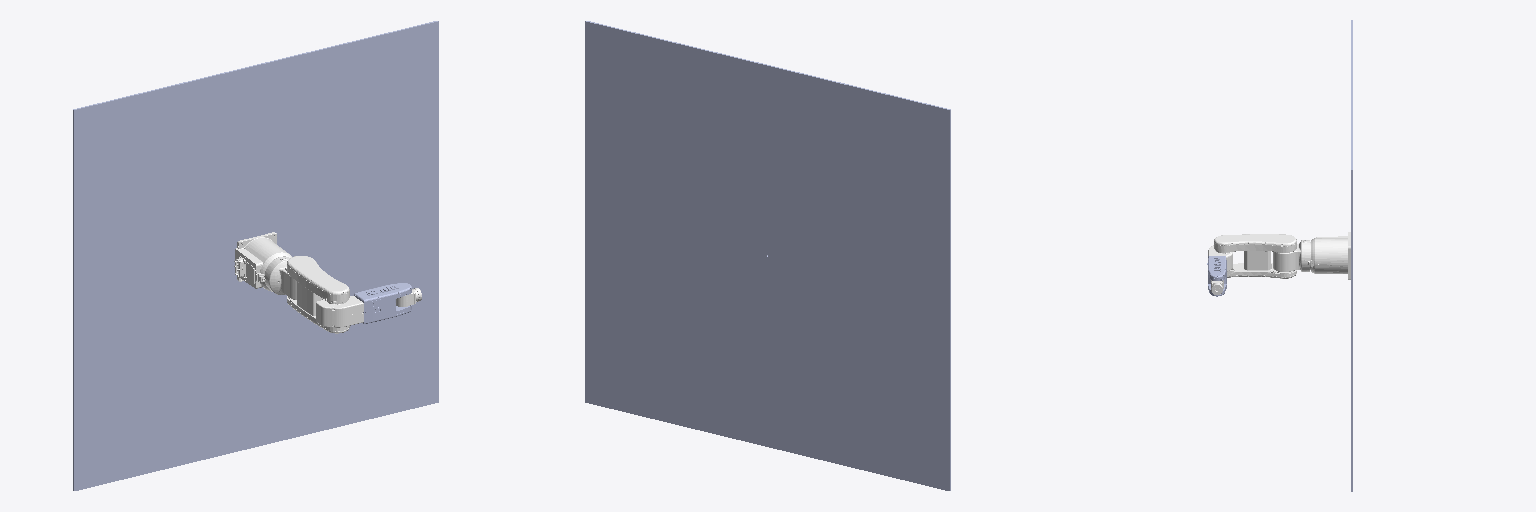
URDF robot description (ra605):
<robot
  name="ra605">
  <link
    name="floor1">
    <inertial>
      <origin
        xyz="-0.027867 3.7215E-06 -0.1165"
        rpy="0 0 0" />
      <mass
        value="39.999" />
      <inertia
        ixx="13.334"
        ixy="1.7928E-15"
        ixz="-6.8678E-18"
        iyy="13.334"
        iyz="-4.6579E-14"
        izz="26.667" />
    </inertial>
    <visual>
      <origin
        xyz="0 0 0"
        rpy="0 0 0" />
      <geometry>
        <mesh
          filename="package://ra605/meshes/floor1.STL" />
      </geometry>
      <material
        name="">
        <color
          rgba="0.79216 0.81961 0.93333 1" />
      </material>
    </visual>
    <collision>
      <origin
        xyz="0 0 0"
        rpy="0 0 0" />
      <geometry>
        <mesh
          filename="package://ra605/meshes/floor1.STL" />
      </geometry>
    </collision>
  </link>
  <link
    name="Link2">
    <inertial>
      <origin
        xyz="0.037351 0.0019611 1.382E-05"
        rpy="0 0 0" />
      <mass
        value="21.943" />
      <inertia
        ixx="0.14975"
        ixy="0.0016032"
        ixz="-3.0665E-05"
        iyy="0.13013"
        iyz="1.5416E-05"
        izz="0.16732" />
    </inertial>
    <visual>
      <origin
        xyz="0 0 0"
        rpy="0 0 0" />
      <geometry>
        <mesh
          filename="package://ra605/meshes/Link2.STL" />
      </geometry>
      <material
        name="">
        <color
          rgba="1 1 1 1" />
      </material>
    </visual>
    <collision>
      <origin
        xyz="0 0 0"
        rpy="0 0 0" />
      <geometry>
        <mesh
          filename="package://ra605/meshes/Link2.STL" />
      </geometry>
    </collision>
  </link>
  <joint
    name="joint1"
    type="fixed">
    <origin
      xyz="0 0 0"
      rpy="0 -1.2246E-16 3.1416" />
    <parent
      link="floor1" />
    <child
      link="Link2" />
    <axis
      xyz="0 0 0" />
  </joint>
  <link
    name="Link3">
    <inertial>
      <origin
        xyz="0.012541 -0.0034973 0.082141"
        rpy="0 0 0" />
      <mass
        value="7.6212" />
      <inertia
        ixx="0.035843"
        ixy="0.00046535"
        ixz="-0.0053569"
        iyy="0.038538"
        iyz="0.0016388"
        izz="0.02369" />
    </inertial>
    <visual>
      <origin
        xyz="0 0 0"
        rpy="0 0 0" />
      <geometry>
        <mesh
          filename="package://ra605/meshes/Link3.STL" />
      </geometry>
      <material
        name="">
        <color
          rgba="1 1 1 1" />
      </material>
    </visual>
    <collision>
      <origin
        xyz="0 0 0"
        rpy="0 0 0" />
      <geometry>
        <mesh
          filename="package://ra605/meshes/Link3.STL" />
      </geometry>
    </collision>
  </link>
  <joint
    name="joint2"
    type="continuous">
    <origin
      xyz="0.027867 0.1185 0"
      rpy="1.5708 -1.2246E-16 -3.1416" />
    <parent
      link="Link2" />
    <child
      link="Link3" />
    <axis
      xyz="0 0 1" />
  </joint>
  <link
    name="Link4">
    <inertial>
      <origin
        xyz="-0.0098344 0.017961 0.15004"
        rpy="0 0 0" />
      <mass
        value="20.11" />
      <inertia
        ixx="0.39179"
        ixy="-0.0011467"
        ixz="0.0015973"
        iyy="0.30339"
        iyz="0.0013522"
        izz="0.13207" />
    </inertial>
    <visual>
      <origin
        xyz="0 0 0"
        rpy="0 0 0" />
      <geometry>
        <mesh
          filename="package://ra605/meshes/Link4.STL" />
      </geometry>
      <material
        name="">
        <color
          rgba="1 1 1 1" />
      </material>
    </visual>
    <collision>
      <origin
        xyz="0 0 0"
        rpy="0 0 0" />
      <geometry>
        <mesh
          filename="package://ra605/meshes/Link4.STL" />
      </geometry>
    </collision>
  </link>
  <joint
    name="joint4"
    type="continuous">
    <origin
      xyz="0.03 0 0.145"
      rpy="0 0 0" />
    <parent
      link="Link3" />
    <child
      link="Link4" />
    <axis
      xyz="0 1 0" />
  </joint>
  <link
    name="Link5">
    <inertial>
      <origin
        xyz="0.00081491 -0.0023378 0.019022"
        rpy="0 0 0" />
      <mass
        value="6.7196" />
      <inertia
        ixx="0.015647"
        ixy="-1.3353E-05"
        ixz="-0.0031024"
        iyy="0.028001"
        iyz="-0.00028452"
        izz="0.024631" />
    </inertial>
    <visual>
      <origin
        xyz="0 0 0"
        rpy="0 0 0" />
      <geometry>
        <mesh
          filename="package://ra605/meshes/Link5.STL" />
      </geometry>
      <material
        name="">
        <color
          rgba="1 1 1 1" />
      </material>
    </visual>
    <collision>
      <origin
        xyz="0 0 0"
        rpy="0 0 0" />
      <geometry>
        <mesh
          filename="package://ra605/meshes/Link5.STL" />
      </geometry>
    </collision>
  </link>
  <joint
    name="joint5"
    type="continuous">
    <origin
      xyz="0 0 0.34"
      rpy="0 0 0" />
    <parent
      link="Link4" />
    <child
      link="Link5" />
    <axis
      xyz="0 1 0" />
  </joint>
  <link
    name="Link6">
    <inertial>
      <origin
        xyz="0.11367 -5.0401E-05 -6.5671E-05"
        rpy="0 0 0" />
      <mass
        value="3.0032" />
      <inertia
        ixx="0.0072168"
        ixy="2.3984E-06"
        ixz="-1.6373E-06"
        iyy="0.01773"
        iyz="4.1659E-06"
        izz="0.019919" />
    </inertial>
    <visual>
      <origin
        xyz="0 0 0"
        rpy="0 0 0" />
      <geometry>
        <mesh
          filename="package://ra605/meshes/Link6.STL" />
      </geometry>
      <material
        name="">
        <color
          rgba="0.79216 0.81961 0.93333 1" />
      </material>
    </visual>
    <collision>
      <origin
        xyz="0 0 0"
        rpy="0 0 0" />
      <geometry>
        <mesh
          filename="package://ra605/meshes/Link6.STL" />
      </geometry>
    </collision>
  </link>
  <joint
    name="joint6"
    type="continuous">
    <origin
      xyz="0.0989999999999995 0 0.0400000000000098"
      rpy="0 0 0" />
    <parent
      link="Link5" />
    <child
      link="Link6" />
    <axis
      xyz="1 0 0" />
  </joint>
  <link
    name="Link7">
    <inertial>
      <origin
        xyz="0.018322 0.0036986 -5.462E-06"
        rpy="0 0 0" />
      <mass
        value="1.025" />
      <inertia
        ixx="0.00064842"
        ixy="6.948E-05"
        ixz="1.729E-07"
        iyy="0.0012602"
        iyz="-1.4446E-07"
        izz="0.0011735" />
    </inertial>
    <visual>
      <origin
        xyz="0 0 0"
        rpy="0 0 0" />
      <geometry>
        <mesh
          filename="package://ra605/meshes/Link7.STL" />
      </geometry>
      <material
        name="">
        <color
          rgba="1 1 1 1" />
      </material>
    </visual>
    <collision>
      <origin
        xyz="0 0 0"
        rpy="0 0 0" />
      <geometry>
        <mesh
          filename="package://ra605/meshes/Link7.STL" />
      </geometry>
    </collision>
  </link>
  <joint
    name="joint7"
    type="continuous">
    <origin
      xyz="0.239 0 0"
      rpy="0 0 0" />
    <parent
      link="Link6" />
    <child
      link="Link7" />
    <axis
      xyz="0 1 0" />
  </joint>
  <link
    name="Link8">
    <inertial>
      <origin
        xyz="0.011822 3.6422E-06 -5.5243E-05"
        rpy="0 0 0" />
      <mass
        value="0.10765" />
      <inertia
        ixx="5.7757E-05"
        ixy="9.6255E-12"
        ixz="1.9881E-08"
        iyy="3.1197E-05"
        iyz="4.7029E-13"
        izz="3.1292E-05" />
    </inertial>
    <visual>
      <origin
        xyz="0 0 0"
        rpy="0 0 0" />
      <geometry>
        <mesh
          filename="package://ra605/meshes/Link8.STL" />
      </geometry>
      <material
        name="">
        <color
          rgba="0.99608 0.99608 1 1" />
      </material>
    </visual>
    <collision>
      <origin
        xyz="0 0 0"
        rpy="0 0 0" />
      <geometry>
        <mesh
          filename="package://ra605/meshes/Link8.STL" />
      </geometry>
    </collision>
  </link>
  <joint
    name="joint8"
    type="continuous">
    <origin
      xyz="0.0677 0 0"
      rpy="0 0 0" />
    <parent
      link="Link7" />
    <child
      link="Link8" />
    <axis
      xyz="1 0 0" />
  </joint>
</robot>

--- Facts derived from the render (not from the file) ---
Views: 3 orthographic renders of the robot side by side, from view 1: azimuth 30°, elevation 25°; view 2: azimuth 150°, elevation 25°; view 3: azimuth 270°, elevation 25°.
Robot: ra605 — 8 links, 7 joints (6 continuous, 1 fixed); root link floor1; default pose: all joints at 0.
Visible links, largest first — view 1: floor1, Link4, Link2, Link6, Link5, Link3; view 2: floor1; view 3: Link4, Link2, floor1, Link3, Link6.
Boxes of the visible links, x1=… form: floor1: x1=73, y1=21, x2=438, y2=490; Link4: x1=285, y1=256, x2=349, y2=333; Link2: x1=234, y1=232, x2=291, y2=291; Link6: x1=354, y1=283, x2=411, y2=323; Link5: x1=316, y1=296, x2=363, y2=327; Link3: x1=264, y1=257, x2=296, y2=299; floor1: x1=585, y1=21, x2=950, y2=490; Link4: x1=1214, y1=234, x2=1296, y2=278; Link2: x1=1310, y1=232, x2=1350, y2=279; floor1: x1=1351, y1=20, x2=1352, y2=491; Link3: x1=1273, y1=240, x2=1309, y2=271; Link6: x1=1207, y1=256, x2=1226, y2=296.
Bounding box of the posed robot: 2 × 0.8218 × 2 m (x, y, z).
Meshes: 8 distinct files referenced, 8 mesh visuals loaded (8 binary STL).
